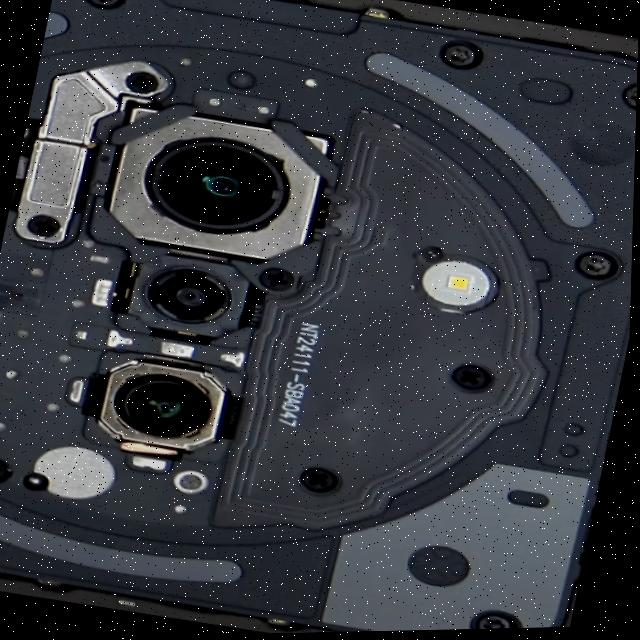Torx: (573, 249, 620, 283), (438, 37, 484, 71), (467, 606, 524, 629), (620, 80, 637, 113), (80, 0, 128, 11)
